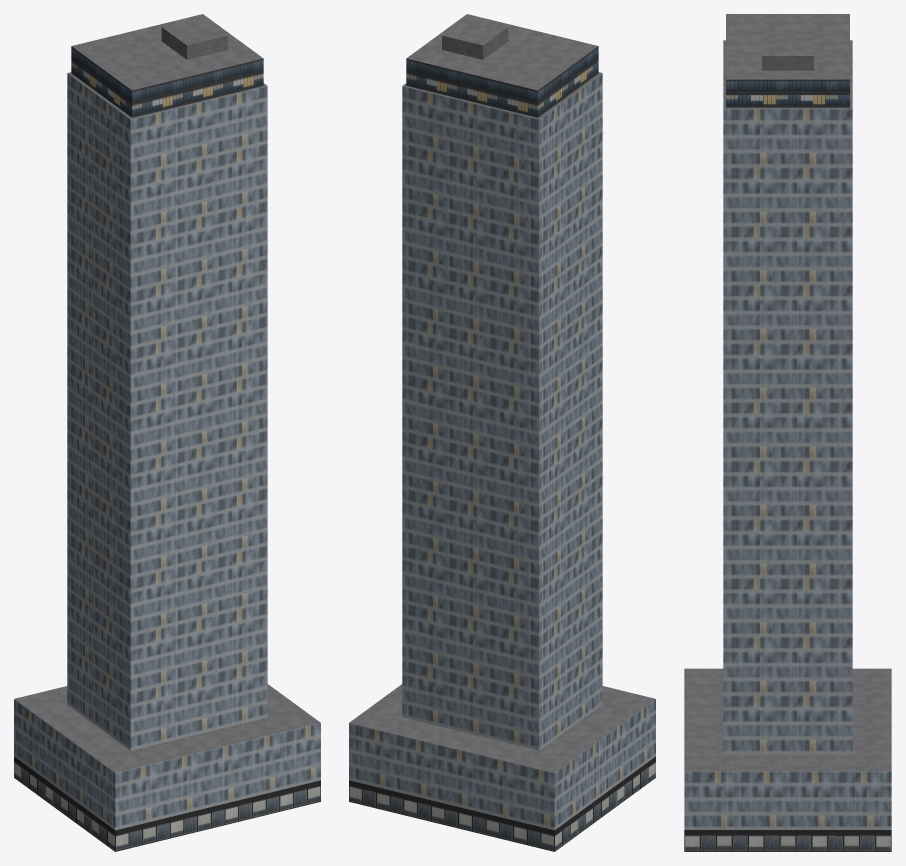
File: 043_glass_podium_silver.glb
3 views of the same model, side by side, from view 1: azimuth 30°, elevation 25°; view 2: azimuth 150°, elevation 25°; view 3: azimuth 270°, elevation 25° (orthographic). The views are drawn at different scales.
Visible parts, largest first — view 1: 043_glass_podium_silver; view 2: 043_glass_podium_silver; view 3: 043_glass_podium_silver.
Part boxes in pixels (bbox=[...]): 043_glass_podium_silver: bbox=[14, 14, 320, 851]; 043_glass_podium_silver: bbox=[349, 14, 655, 851]; 043_glass_podium_silver: bbox=[684, 14, 891, 851].
Bounding box in the file's own units: 60 × 210 × 51.2.
Materials: 5 (5 with a texture image).
